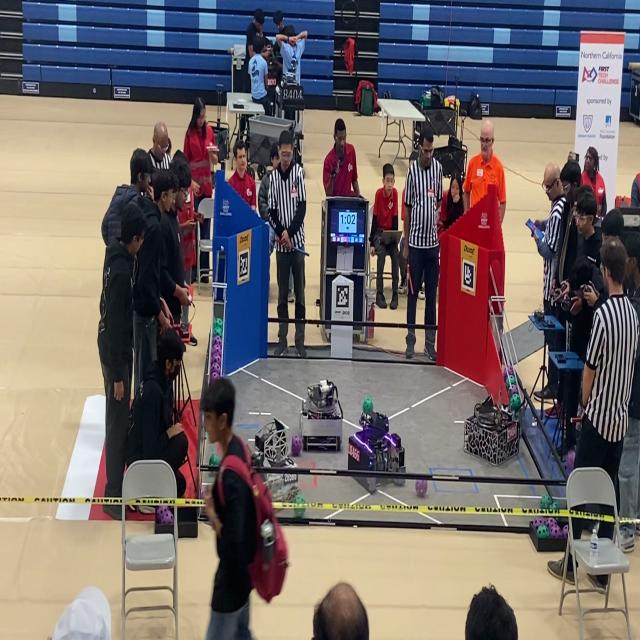artifact_green: (156, 505, 173, 525), (291, 434, 302, 456), (285, 486, 299, 503), (536, 525, 550, 539), (540, 494, 553, 509), (510, 394, 521, 411), (533, 517, 547, 530), (208, 452, 220, 467), (549, 525, 561, 539), (363, 398, 373, 414), (212, 341, 222, 357), (546, 517, 557, 530), (212, 354, 221, 369), (294, 507, 305, 517), (508, 386, 518, 397), (507, 376, 516, 387), (213, 326, 222, 337), (562, 525, 569, 539), (213, 336, 221, 348), (215, 323, 223, 335), (210, 371, 220, 380), (549, 502, 559, 511), (503, 368, 509, 383), (214, 318, 223, 327), (212, 326, 219, 337), (507, 366, 514, 375), (214, 318, 222, 324)
artifact_purple: (156, 505, 173, 524), (565, 449, 575, 474), (291, 434, 302, 456), (548, 524, 562, 539), (416, 479, 427, 497), (533, 517, 546, 529), (547, 518, 557, 531), (210, 361, 220, 373), (508, 385, 518, 397), (212, 347, 221, 359), (213, 336, 222, 347), (212, 344, 221, 355), (213, 354, 221, 366), (213, 361, 220, 373), (211, 371, 220, 380), (213, 366, 221, 376), (212, 363, 220, 373), (562, 525, 568, 538), (507, 366, 514, 376), (504, 368, 509, 382)
